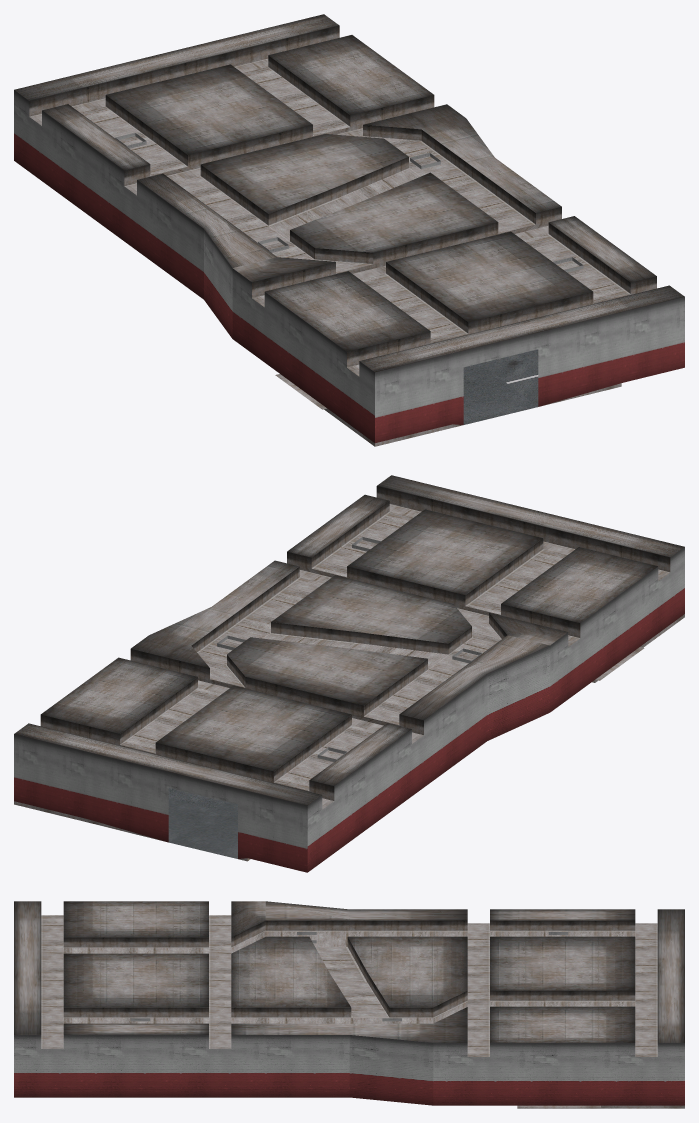
File: century03_law2.obj
The picture shows the model from 3 angles, top to bottom: view 1: azimuth 30°, elevation 25°; view 2: azimuth 150°, elevation 25°; view 3: azimuth 270°, elevation 25°; orthographic projection. The views are drawn at different scales.
Parts seen in each view (by area): view 1: century03_LAw2; view 2: century03_LAw2; view 3: century03_LAw2.
Part boxes in pixels (<box>): century03_LAw2: <box>14,14,684,446</box>; century03_LAw2: <box>14,475,684,872</box>; century03_LAw2: <box>14,901,684,1108</box>.
Size of the model in its own units: 33.91 by 7.15 by 65.83.
